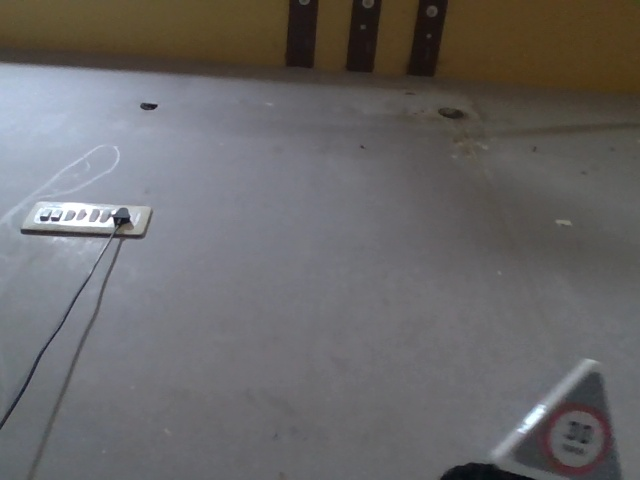speedlimit: (480, 349, 620, 477)
